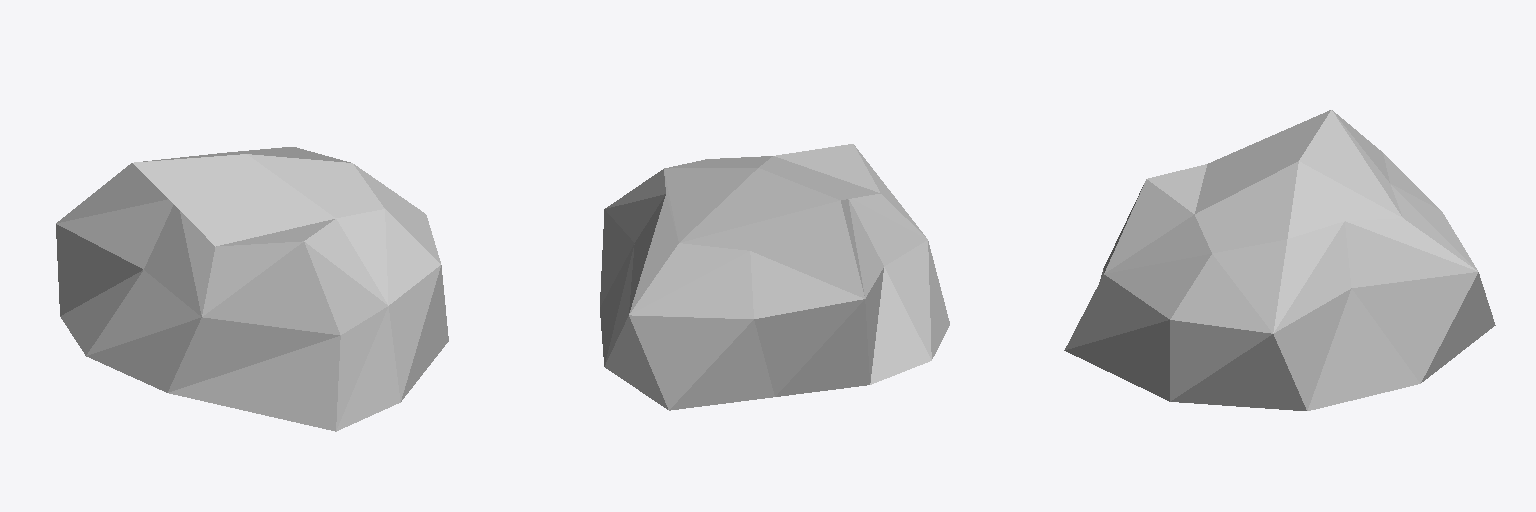
File: rocklow2.obj
The picture shows the model from 3 angles: view 1: azimuth 30°, elevation 25°; view 2: azimuth 150°, elevation 25°; view 3: azimuth 270°, elevation 25°; orthographic projection.
Parts seen in each view (by area): view 1: pSphere1; view 2: pSphere1; view 3: pSphere1.
Boxes of the visible parts, <box> form: pSphere1: <box>56,147,448,431</box>; pSphere1: <box>600,144,949,410</box>; pSphere1: <box>1064,110,1495,410</box>.
Size of the model in its own units: 73.29 by 41.3 by 82.01.